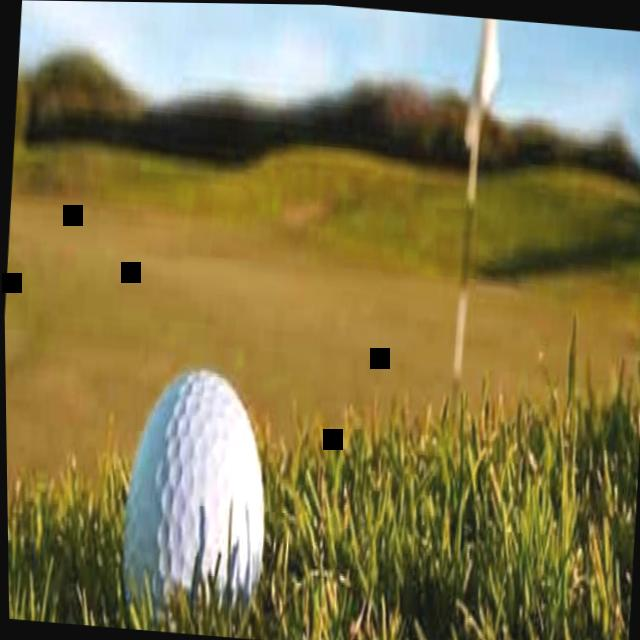golf ball: (110, 341, 280, 639)
